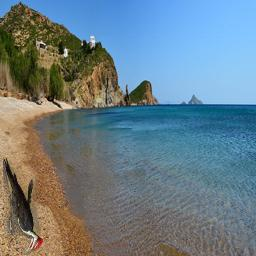Woodpecker: (3, 157, 43, 255)
